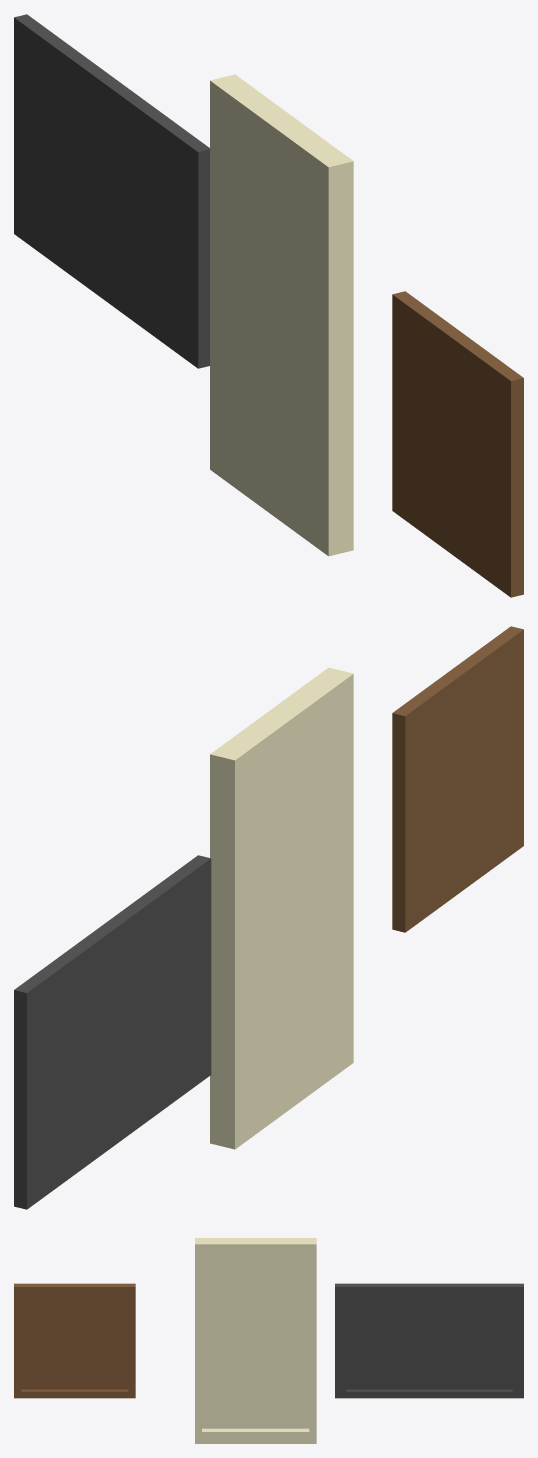
File: Low Poly Photo Frames Version 2.fbx
The picture shows the model from 3 angles, top to bottom: view 1: azimuth 30°, elevation 25°; view 2: azimuth 150°, elevation 25°; view 3: azimuth 270°, elevation 25°; orthographic projection. The views are drawn at different scales.
Visible parts, largest first — view 1: Cube, Cube.002, Cube.001; view 2: Cube, Cube.002, Cube.001; view 3: Cube, Cube.002, Cube.001.
Boxes of the visible parts, x1,y1,x2,y2 form: Cube: (210, 74, 353, 556); Cube.002: (14, 14, 209, 368); Cube.001: (392, 291, 523, 597); Cube: (210, 667, 353, 1149); Cube.002: (14, 855, 211, 1209); Cube.001: (392, 626, 523, 932); Cube: (195, 1238, 316, 1443); Cube.002: (335, 1283, 523, 1398); Cube.001: (14, 1283, 135, 1398).
Bounding box in the file's own units: 24.68 × 365 × 845.
